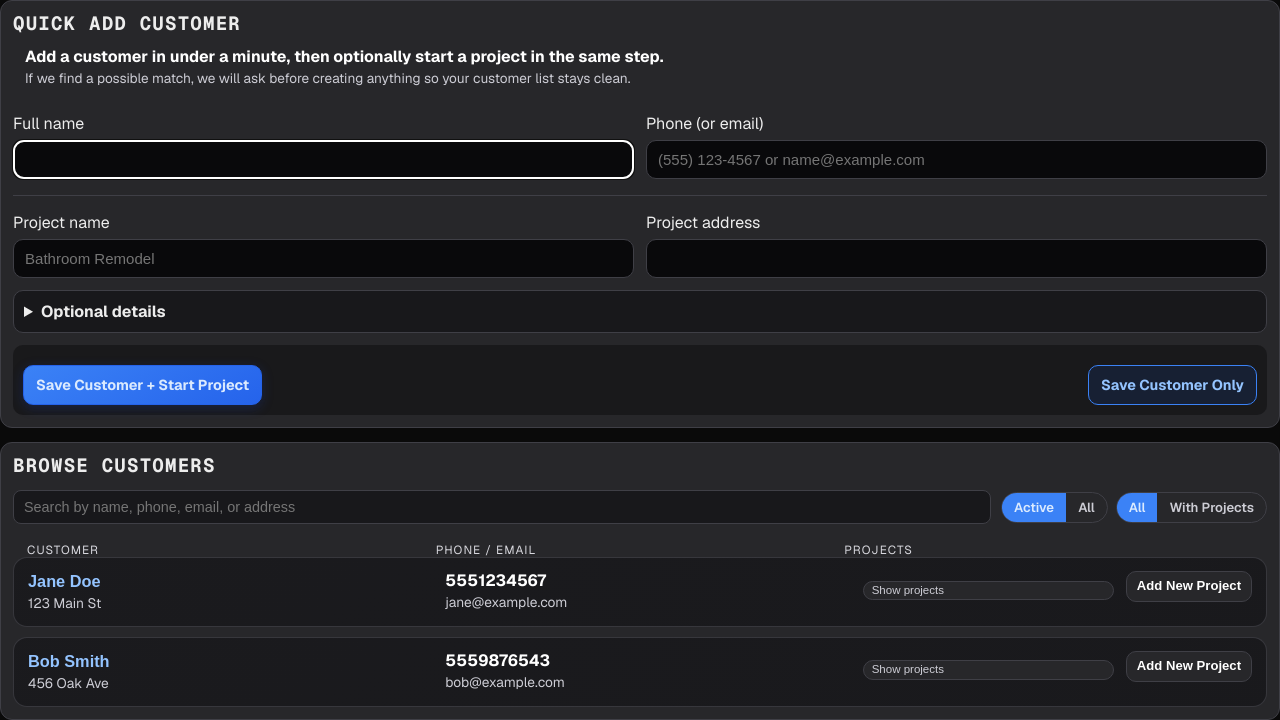
Test: CustomersConsole › opens edit modal when customer name is clicked
Click the button "Jane Doe". click: [64, 582]
box: left=28, top=572, right=100, bottom=592
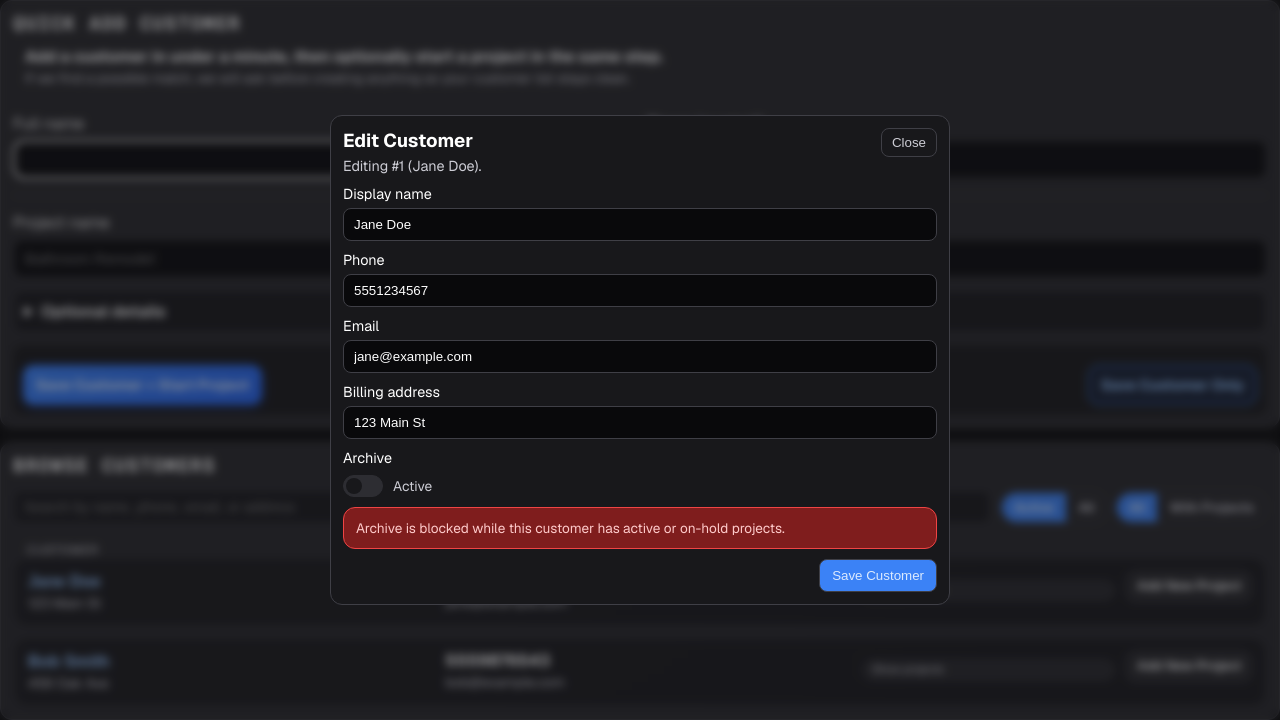
Now the heading "Edit Customer" is shown, box left=343, top=128, right=473, bottom=153
Now the field labelled "Display name" holds "Jane Doe", box left=343, top=208, right=937, bottom=241
